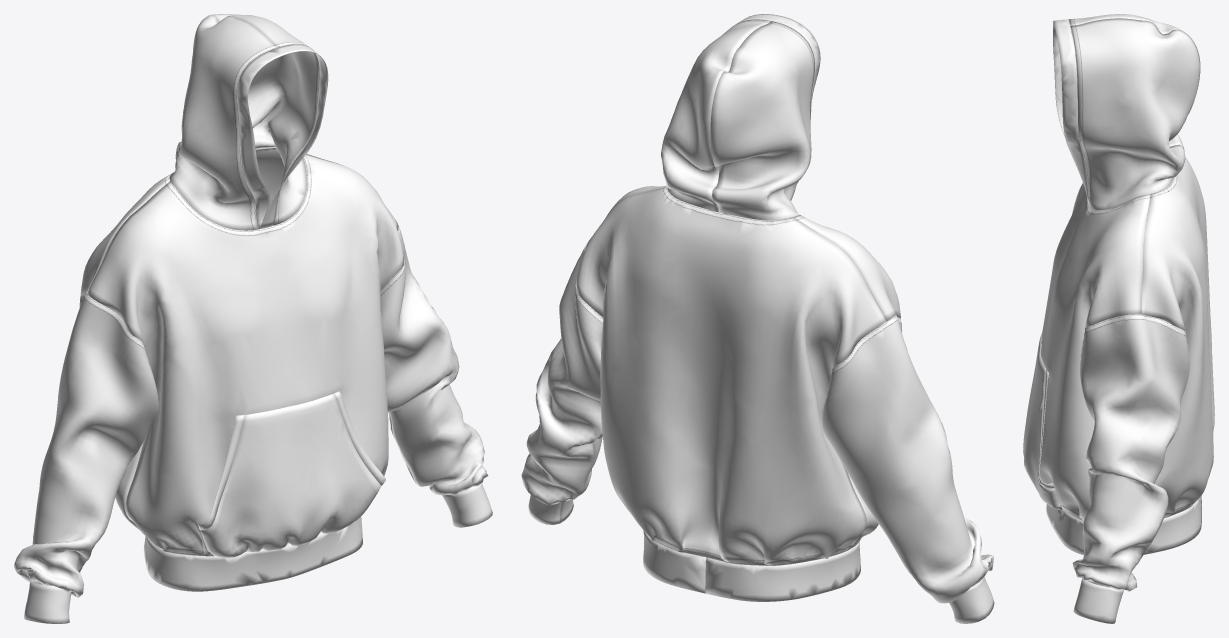
File: hoodie.glb
3 renders of one model, left to right at view 1: azimuth 30°, elevation 25°; view 2: azimuth 150°, elevation 25°; view 3: azimuth 270°, elevation 25°, orthographic. The views are drawn at different scales.
Visible parts, largest first — view 1: Cloth.004; view 2: Cloth.004; view 3: Cloth.004.
Part boxes in pixels (bbox=[...]): Cloth.004: bbox=[14, 14, 492, 623]; Cloth.004: bbox=[521, 14, 994, 623]; Cloth.004: bbox=[1023, 14, 1214, 623].
Bounding box in the file's own units: 0.8207 × 0.9188 × 0.314.
1 material, 1 textured.
